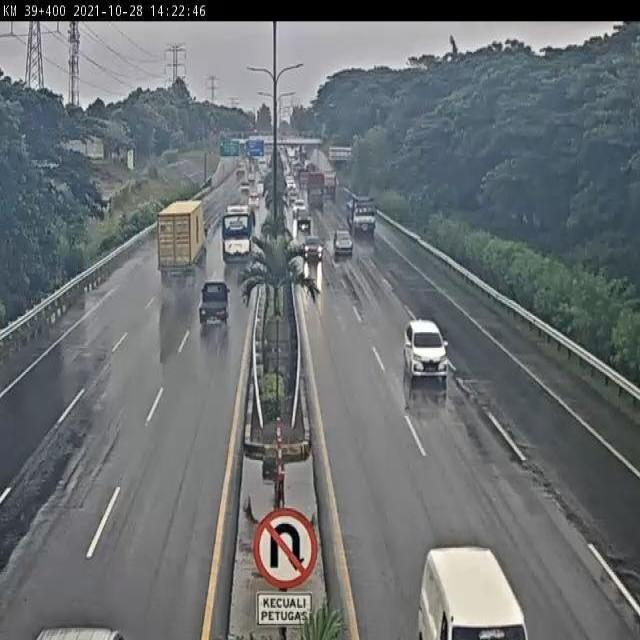Bus: (221, 206, 257, 263)
Car: (399, 320, 453, 383), (301, 236, 326, 262), (332, 229, 354, 258), (297, 208, 312, 232)
Truck: (419, 542, 535, 640), (157, 198, 209, 290), (344, 194, 380, 242), (198, 281, 230, 328), (306, 173, 328, 210)
